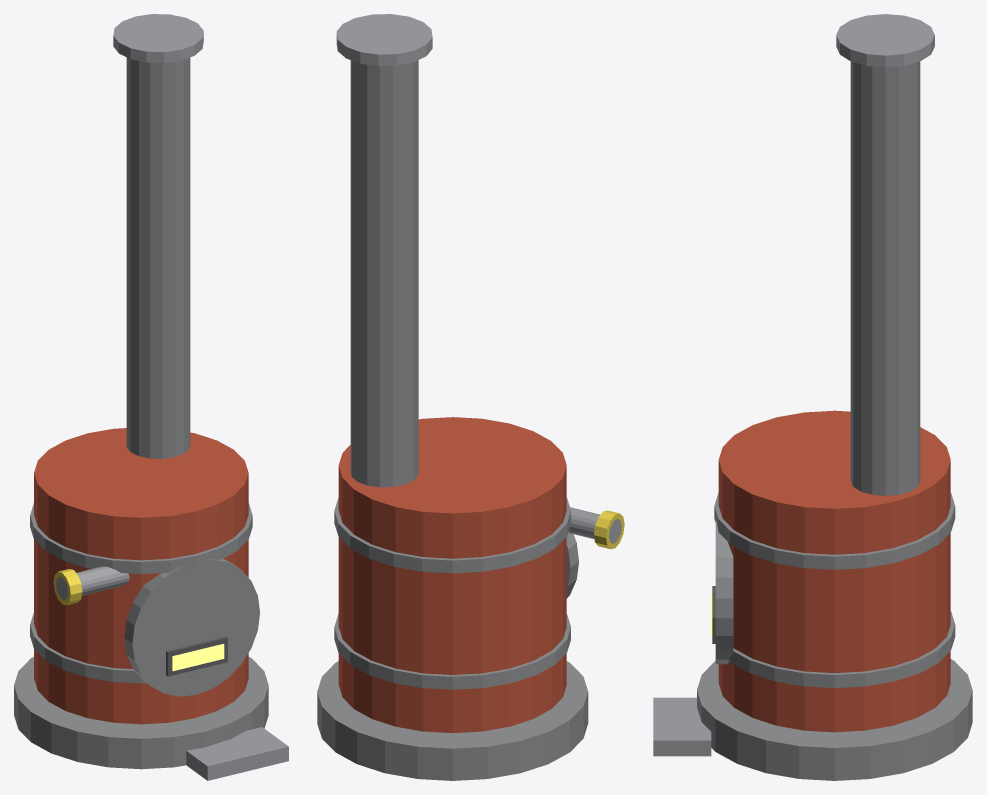
Rendered from machine_incinerator.glb.
3 views of the same model, side by side, from view 1: azimuth 30°, elevation 25°; view 2: azimuth 150°, elevation 25°; view 3: azimuth 270°, elevation 25° (orthographic). The views are drawn at different scales.
Visible parts, largest first — view 1: MI_furnace, MI_chimney, MI_door, MI_plinth, MI_cap, MI_step, MI_band_b, MI_band_a, MI_pipe, MI_glow_frame, MI_glow, MI_valve; view 2: MI_furnace, MI_chimney, MI_plinth, MI_cap, MI_band_a, MI_band_b, MI_pipe, MI_valve, MI_door; view 3: MI_furnace, MI_chimney, MI_plinth, MI_cap, MI_band_b, MI_band_a, MI_step, MI_door.
Part boxes in pixels (box(x1,y1,x2,y2)): MI_furnace: box(34, 428, 248, 724); MI_chimney: box(126, 57, 190, 458); MI_door: box(124, 559, 259, 696); MI_plinth: box(14, 657, 268, 769); MI_cap: box(113, 14, 203, 62); MI_step: box(186, 727, 288, 780); MI_band_b: box(30, 503, 252, 574); MI_band_a: box(30, 612, 204, 683); MI_pipe: box(56, 566, 129, 600); MI_glow_frame: box(166, 636, 227, 676); MI_glow: box(172, 644, 224, 671); MI_valve: box(53, 569, 82, 605); MI_furnace: box(338, 417, 566, 733); MI_chimney: box(350, 60, 418, 487); MI_plinth: box(317, 661, 588, 780); MI_cap: box(336, 14, 432, 66); MI_band_a: box(334, 614, 570, 689); MI_band_b: box(334, 497, 570, 573); MI_pipe: box(568, 507, 621, 543); MI_valve: box(594, 510, 624, 549); MI_door: box(566, 533, 578, 598); MI_furnace: box(718, 410, 950, 732); MI_chimney: box(850, 61, 920, 495); MI_plinth: box(697, 659, 972, 780); MI_cap: box(836, 14, 934, 67); MI_band_b: box(714, 492, 955, 569); MI_band_a: box(728, 611, 955, 687); MI_step: box(653, 697, 711, 756); MI_door: box(715, 518, 733, 664).
Bounding box in the file's own units: 1.95 × 5.39 × 2.2.
